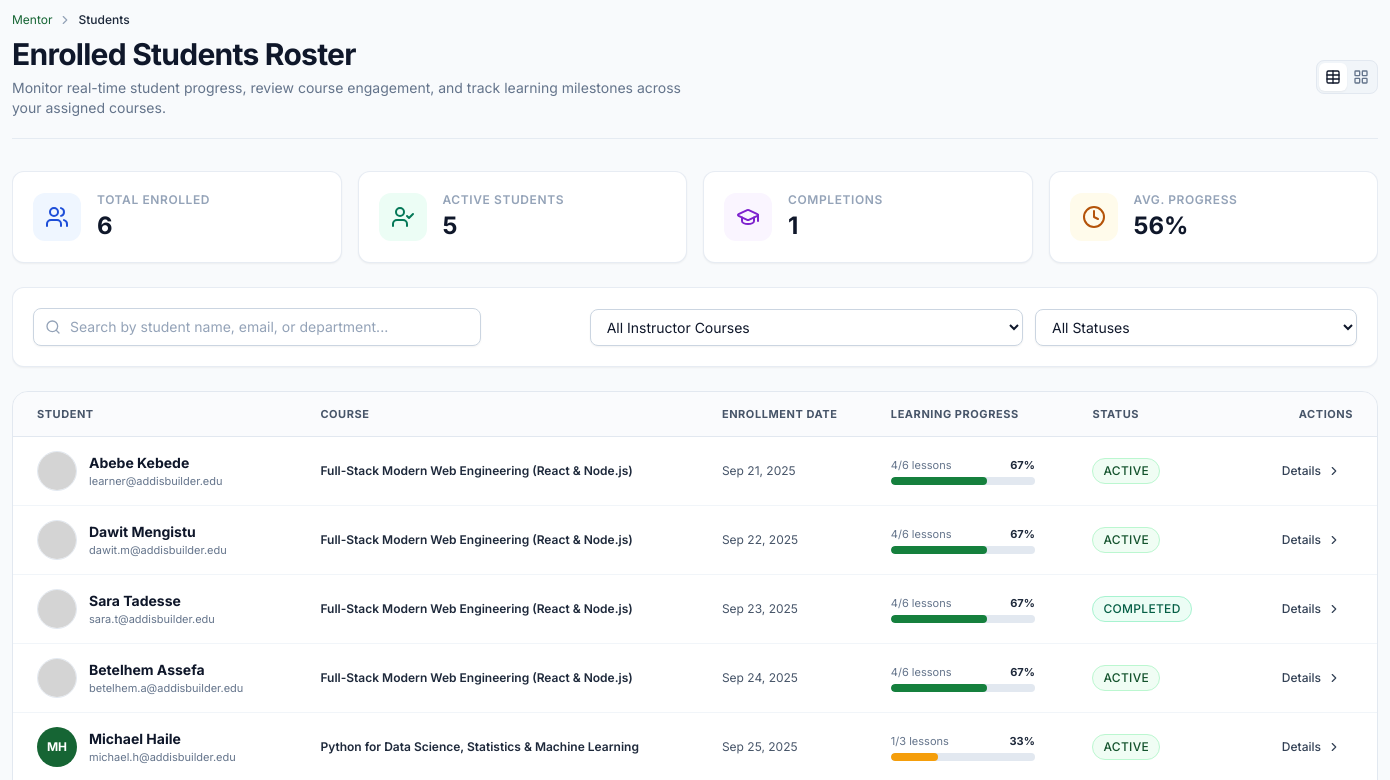
Test: Instructor Student List & Progress Monitoring › filters students by search input
Expected: the text "Abebe Kebede" is shown, [89,454,189,471]
In the field with placeholder "Search by student name, email, or department...": (257, 327) [33,308,481,346], type "Sara"
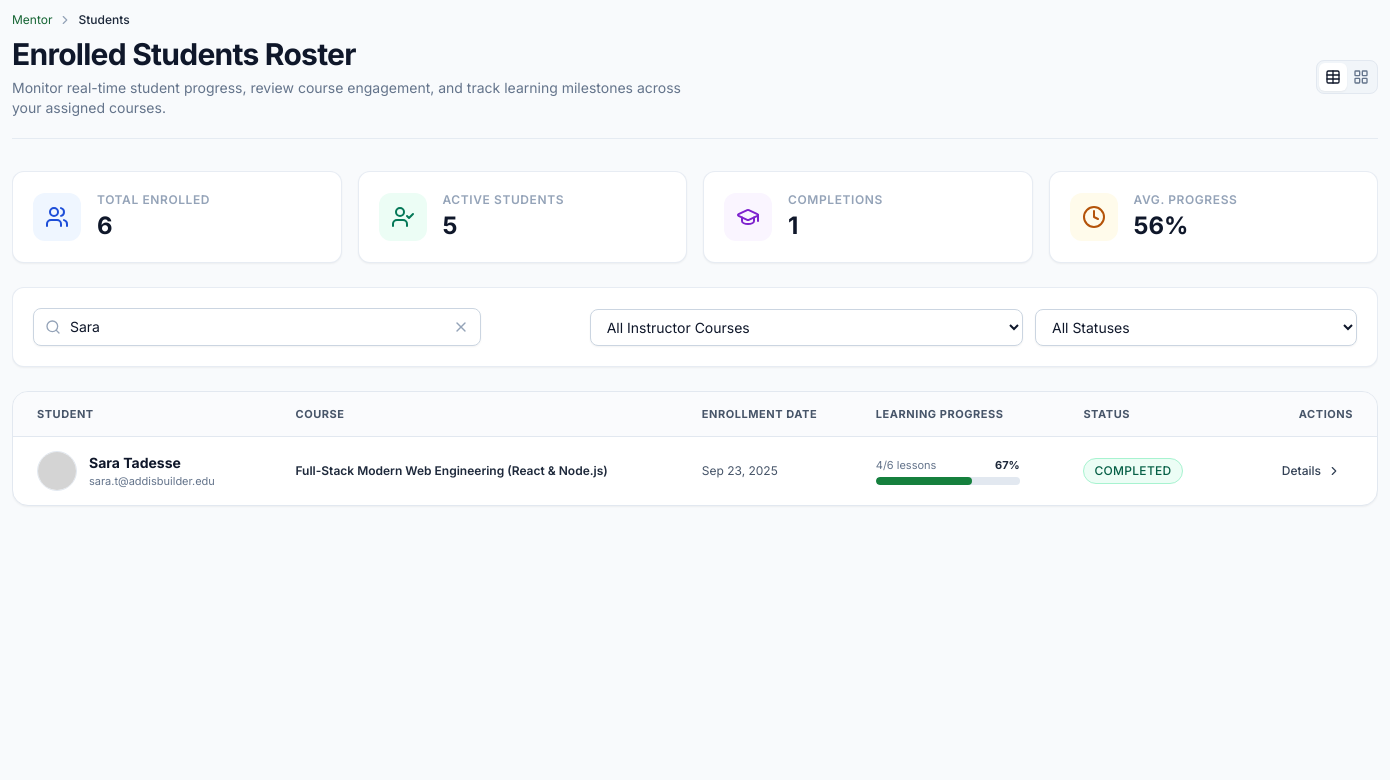
Expected: the text "Sara Tadesse" is shown, [89,454,181,471]
Now the text "Abebe Kebede" is gone
